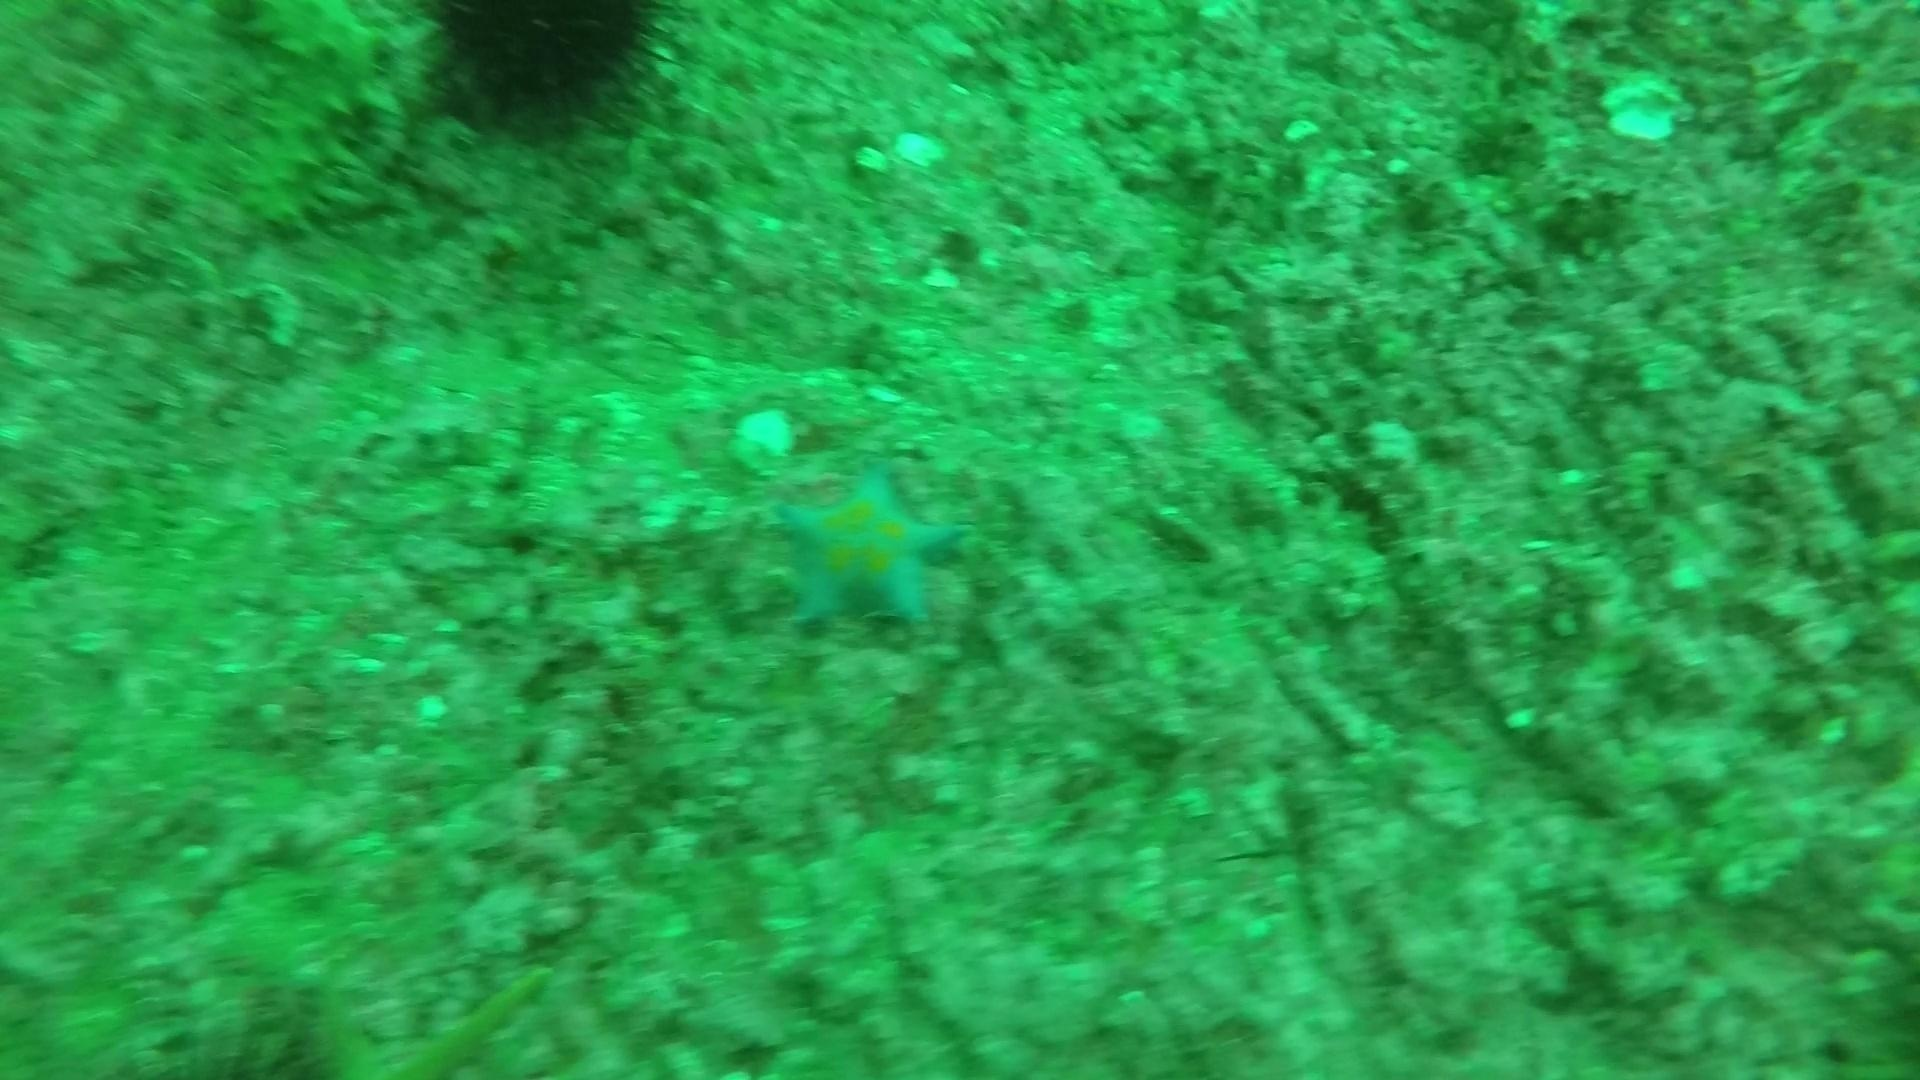echinus: (411, 1, 684, 142)
holothurian: (220, 7, 397, 243)
starfish: (766, 456, 975, 638), (378, 961, 563, 1073)
